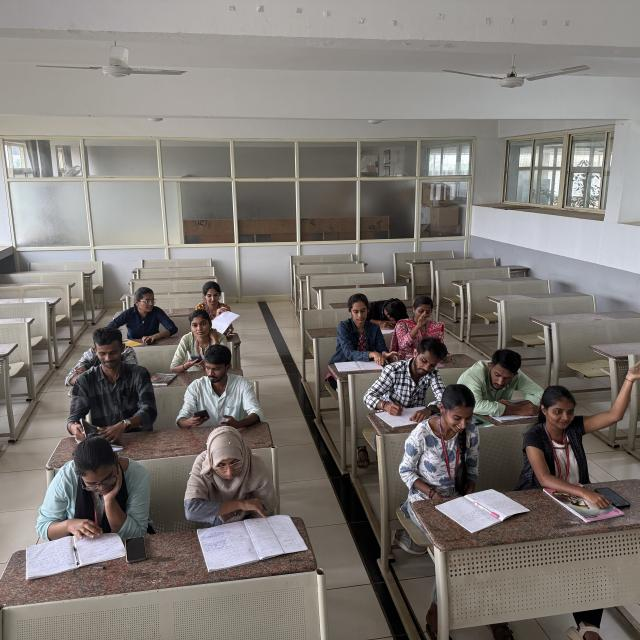Hand Rising: (525, 354, 640, 482)
Reading: (166, 420, 320, 584), (16, 433, 122, 544), (411, 367, 495, 504), (336, 298, 392, 375)
Sleeping: (369, 286, 412, 335)
Using Phone: (152, 349, 287, 440), (165, 309, 242, 384)
Writing: (366, 342, 461, 448)
